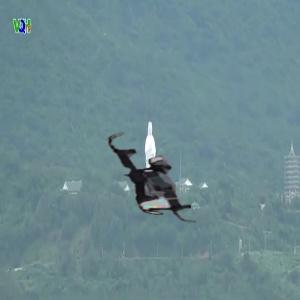drone: (102, 129, 200, 227)
